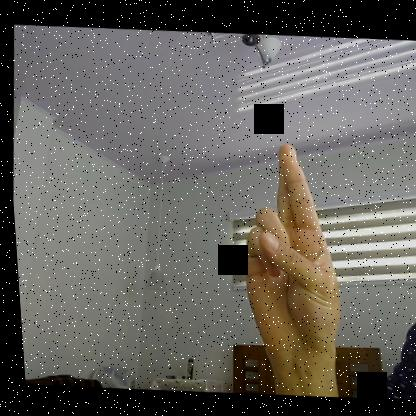R: (228, 139, 351, 365)
